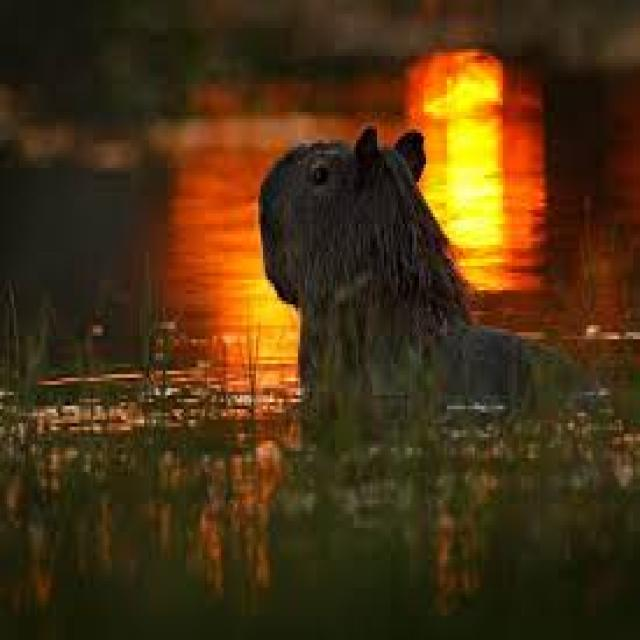capy: (255, 120, 582, 414)
